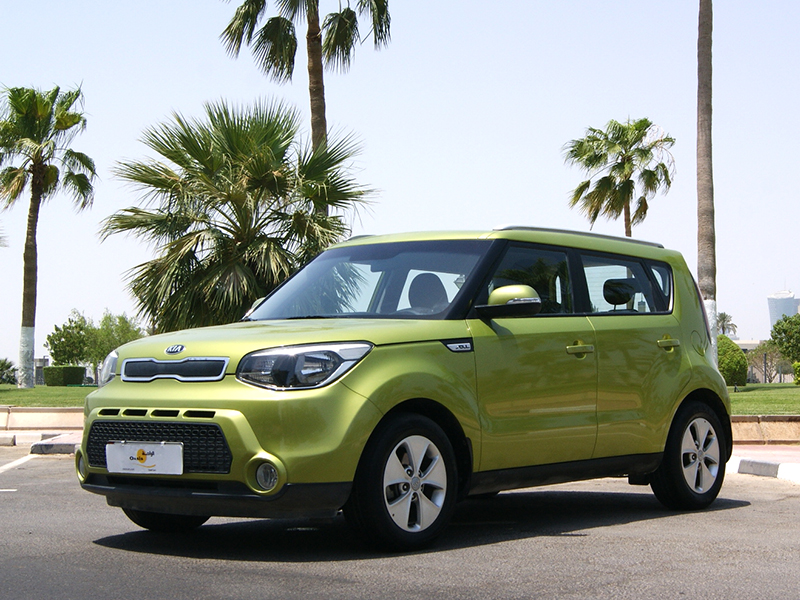other: (72, 230, 739, 537)
